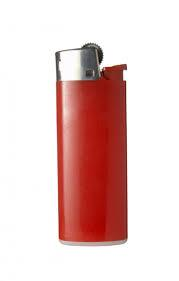lighter: (54, 43, 131, 244)
